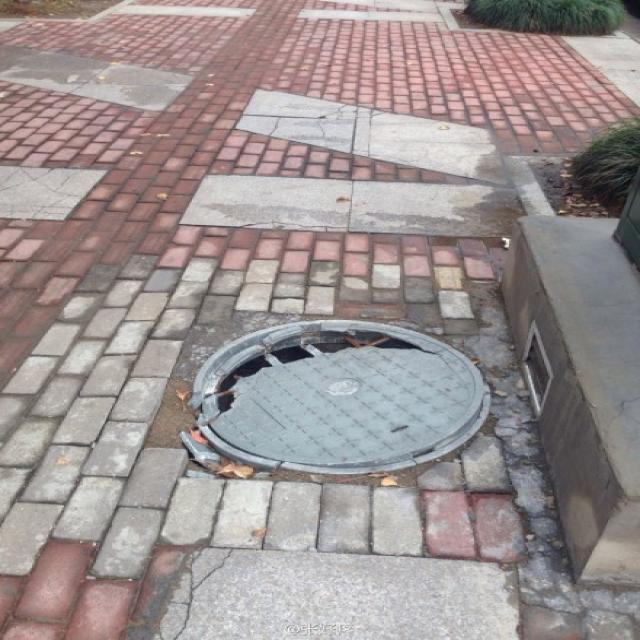manhole: (182, 320, 489, 474)
